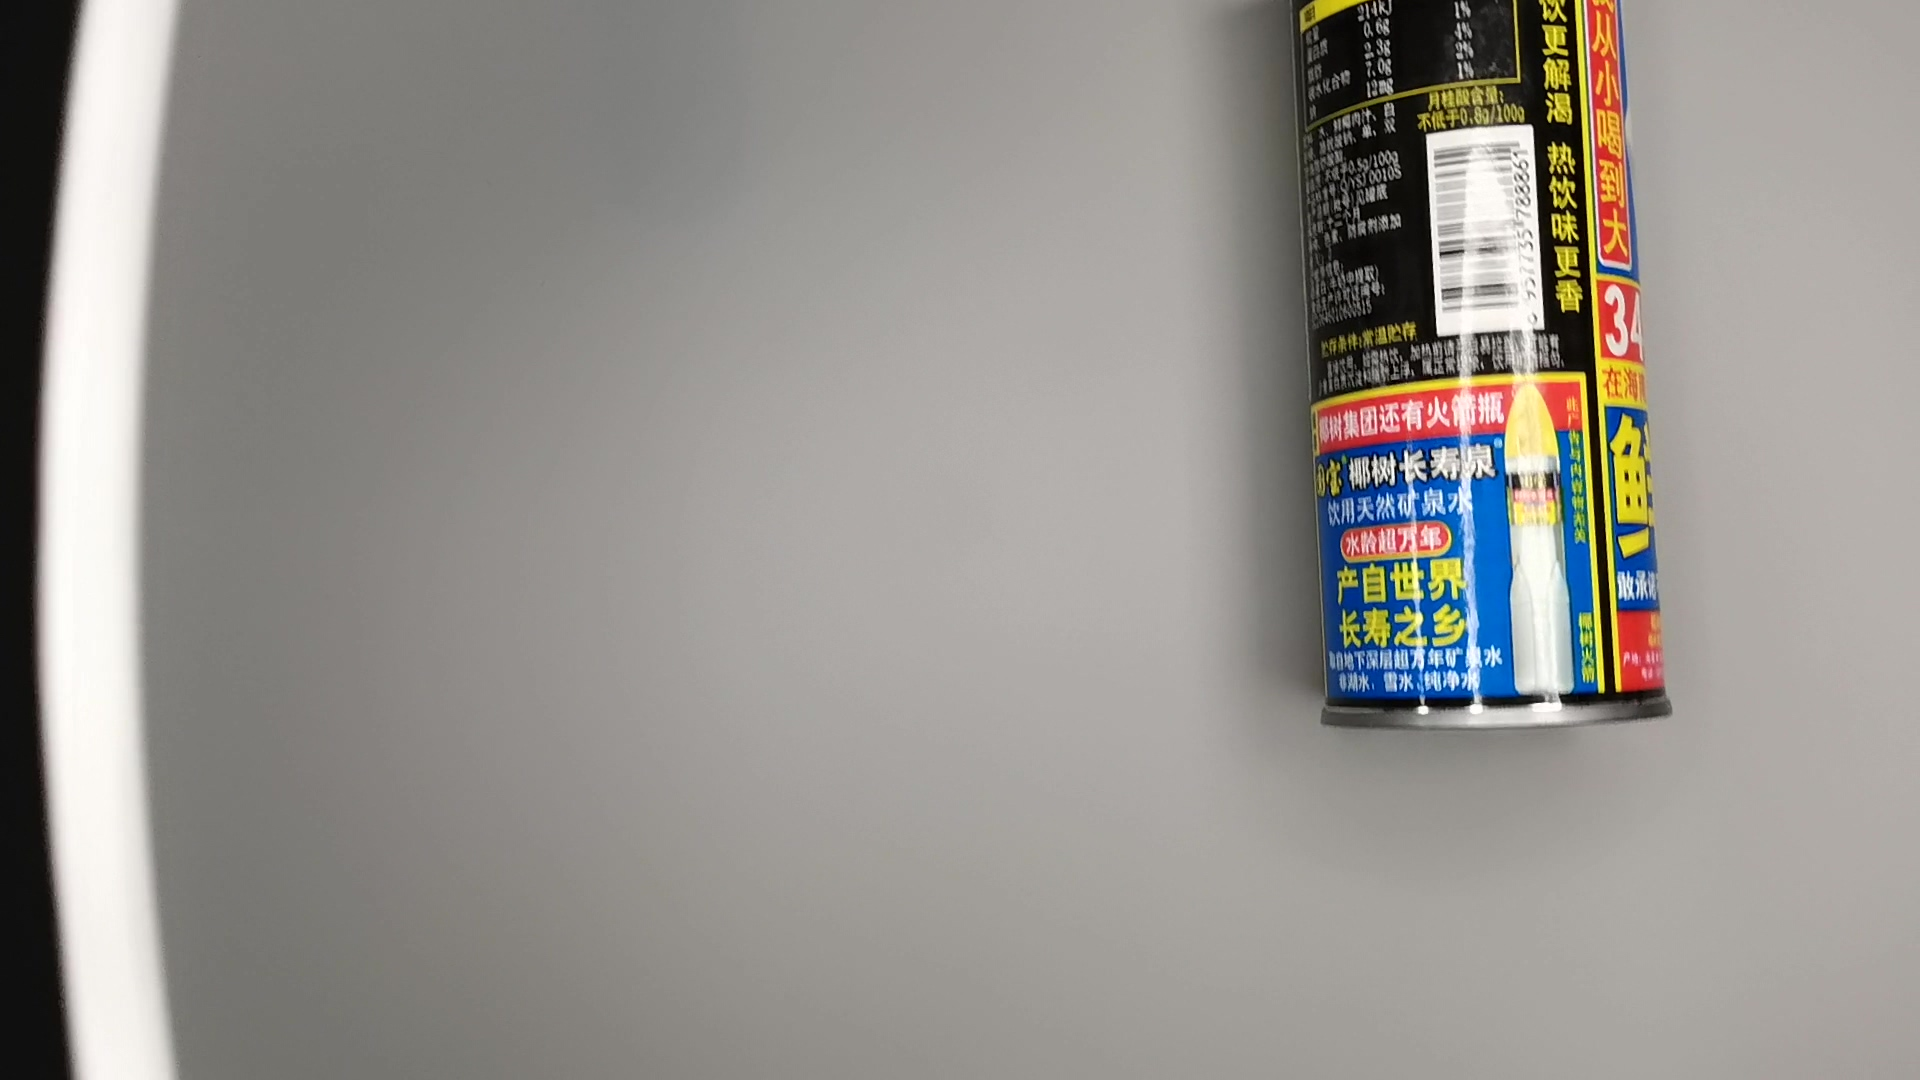can: (1284, 1, 1680, 746)
